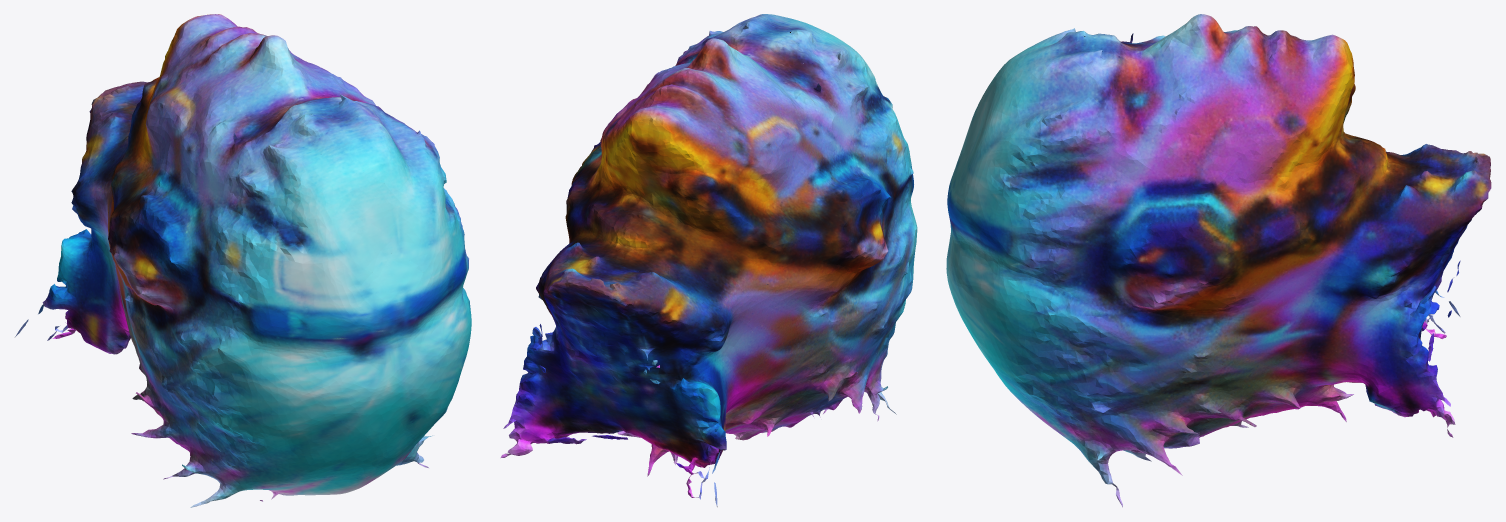
The model's file is A cyberpunk cyborg, white hair, head, photorealistic, 8K, HDR.glb.
3 views of the same model, side by side, from view 1: azimuth 30°, elevation 25°; view 2: azimuth 150°, elevation 25°; view 3: azimuth 270°, elevation 25° (orthographic). The views are drawn at different scales.
Bounding box in the file's own units: 0.9688 × 1.33 × 1.51.
1 material, 1 textured.
